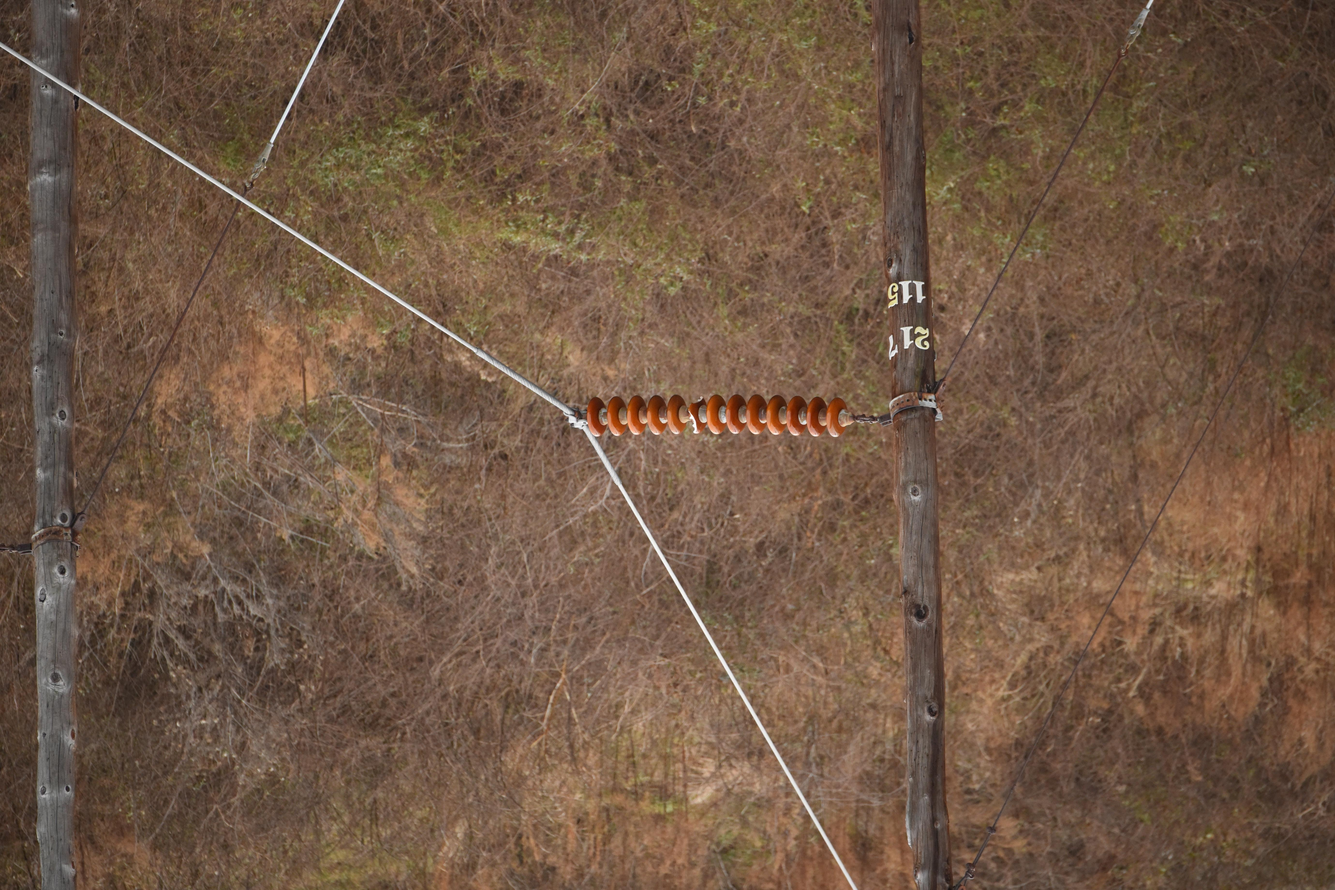damaged: (687, 396, 705, 434)
insulator: (585, 394, 843, 439)
